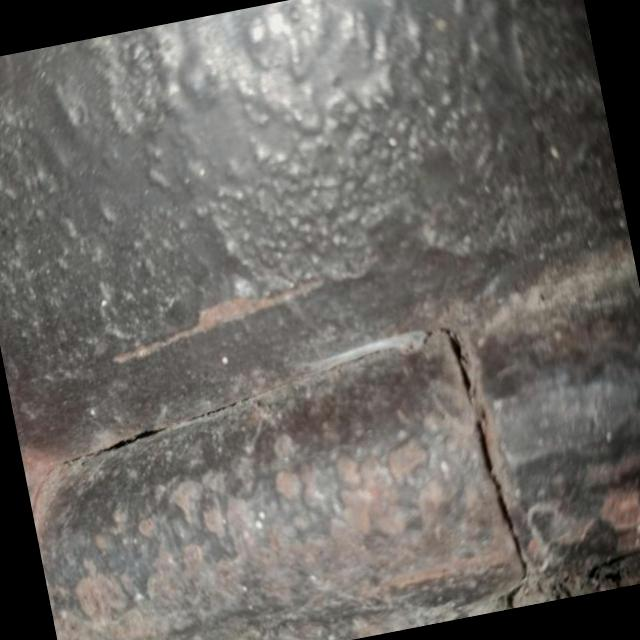defect: (431, 321, 528, 607), (53, 426, 169, 467), (186, 393, 256, 422)
